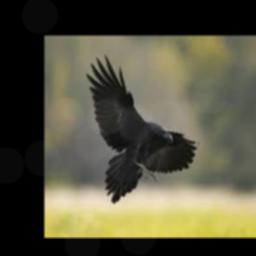Crow: (87, 55, 200, 204)
